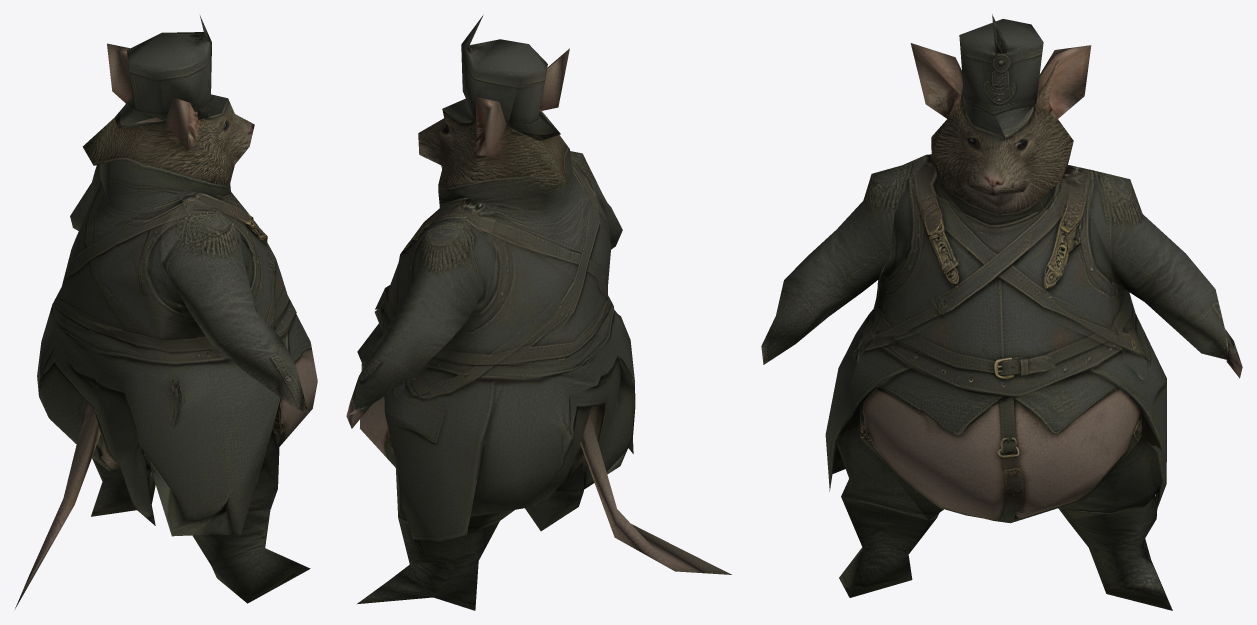
Rendered from infantry_hp_gibs.glb.
3 renders of one model, left to right at view 1: azimuth 30°, elevation 25°; view 2: azimuth 150°, elevation 25°; view 3: azimuth 270°, elevation 25°, orthographic. The views are drawn at different scales.
Visible parts, largest first — view 1: body, armL, hat, legL, legR, tail, armR; view 2: body, armR, hat, legR, tail, legL, armL; view 3: body, armR, armL, hat, legR, legL.
Boxes of the visible parts, x1,y1,x2,y2 form: body: [37, 43, 317, 536]; armL: [161, 210, 308, 412]; hat: [114, 15, 227, 128]; legL: [192, 510, 310, 603]; legR: [91, 459, 155, 516]; tail: [15, 498, 74, 608]; armR: [70, 164, 99, 230]; body: [357, 48, 635, 541]; armR: [346, 218, 485, 428]; hat: [442, 15, 560, 141]; legR: [357, 519, 499, 610]; tail: [614, 509, 731, 574]; legL: [525, 462, 583, 531]; armL: [570, 151, 622, 249]; body: [825, 43, 1166, 523]; armR: [1085, 170, 1242, 378]; armL: [761, 165, 909, 364]; hat: [959, 14, 1043, 137]; legR: [1067, 507, 1172, 610]; legL: [839, 496, 936, 597].
Bounding box in the file's own units: 0.603 × 0.9736 × 0.7351.
Materials: 1 (1 with a texture image).
